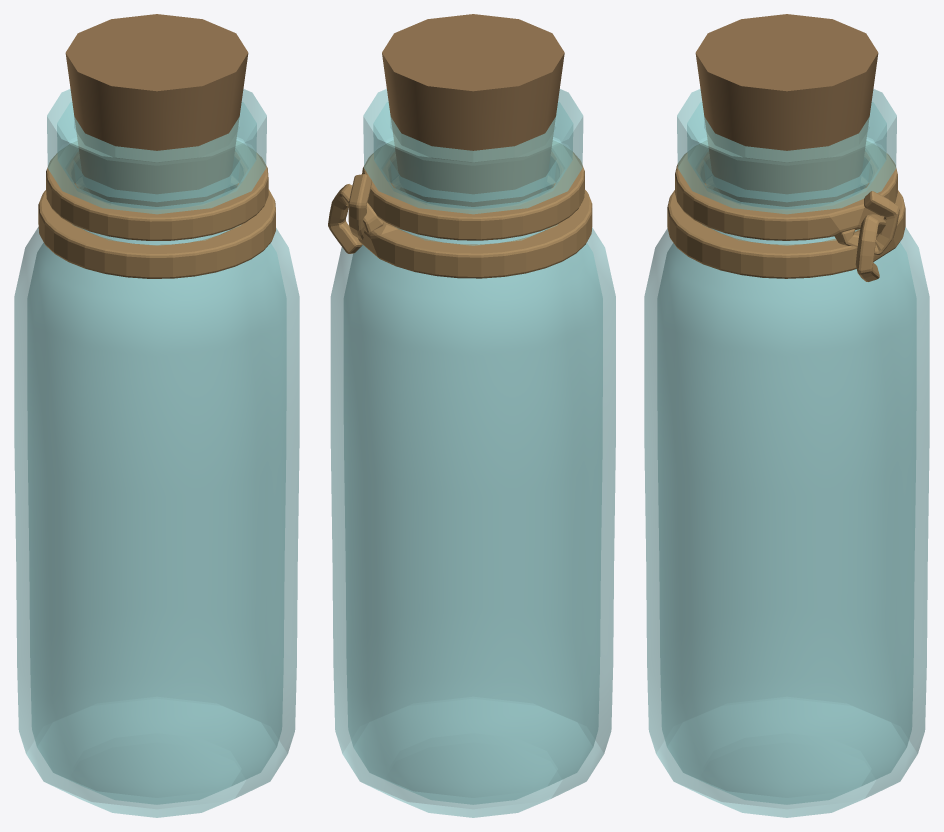
The model's file is banki.fbx.
The picture shows the model from 3 angles, left to right: view 1: azimuth 30°, elevation 25°; view 2: azimuth 150°, elevation 25°; view 3: azimuth 270°, elevation 25°; orthographic projection.
Visible parts, largest first — view 1: Circle; view 2: Circle; view 3: Circle.
Part boxes in pixels (x1,y1,x2,y2): Circle: (14,14,299,817); Circle: (328,14,615,817); Circle: (644,14,929,817).
Bounding box in the file's own units: 0.7155 × 2.01 × 0.7155.
